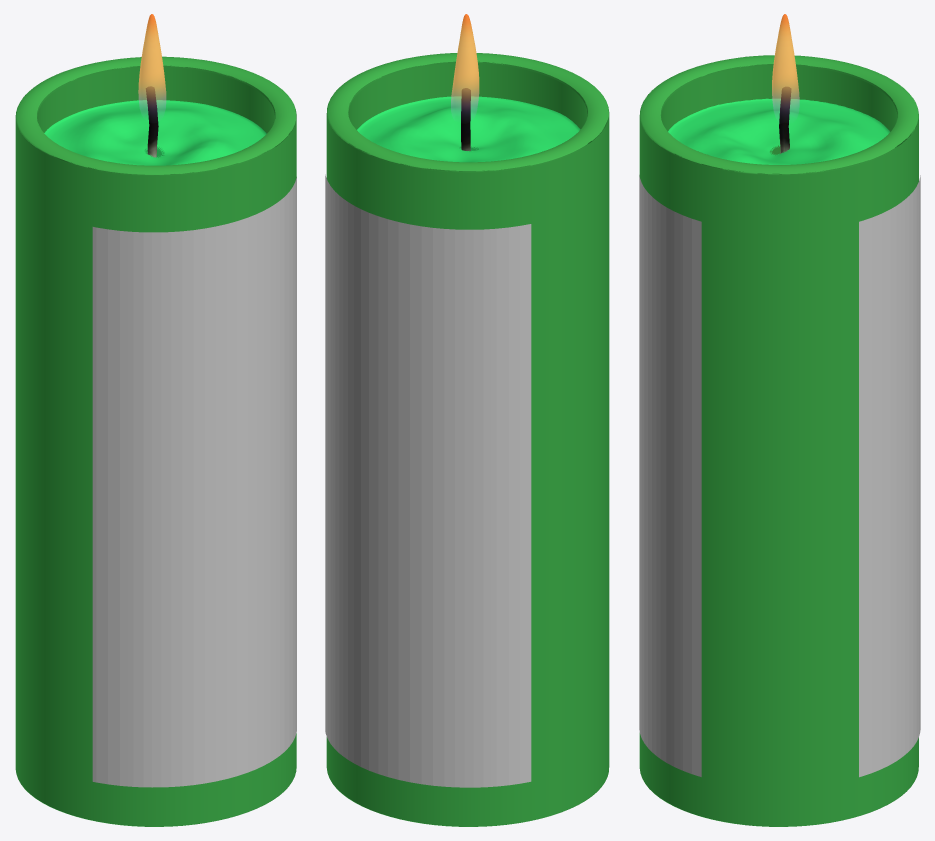
File: singleCandleAnimatedFlame.glb
The picture shows the model from 3 angles, left to right: view 1: azimuth 30°, elevation 25°; view 2: azimuth 150°, elevation 25°; view 3: azimuth 270°, elevation 25°; orthographic projection.
Parts seen in each view (by area): view 1: Label2, glass, wax, Flame, XRope01; view 2: Label1, glass, wax, Flame, XRope01; view 3: glass, Label2, Label1, wax, Flame, XRope01.
Boxes of the visible parts, bbox=[...] form: Label2: bbox=[92, 177, 296, 787]; glass: bbox=[15, 56, 296, 826]; wax: bbox=[36, 100, 266, 165]; Flame: bbox=[138, 14, 166, 113]; XRope01: bbox=[146, 86, 158, 157]; Label1: bbox=[325, 174, 531, 787]; glass: bbox=[326, 53, 609, 826]; wax: bbox=[357, 96, 587, 162]; Flame: bbox=[451, 14, 479, 115]; XRope01: bbox=[461, 88, 470, 151]; glass: bbox=[639, 55, 918, 826]; Label2: bbox=[639, 175, 701, 776]; Label1: bbox=[859, 175, 920, 777]; wax: bbox=[668, 98, 889, 164]; Flame: bbox=[772, 14, 799, 116]; XRope01: bbox=[779, 87, 791, 153].
Bounding box in the file's own units: 0.8406 × 2.48 × 0.8394.
Materials: 4 (2 with a texture image).
